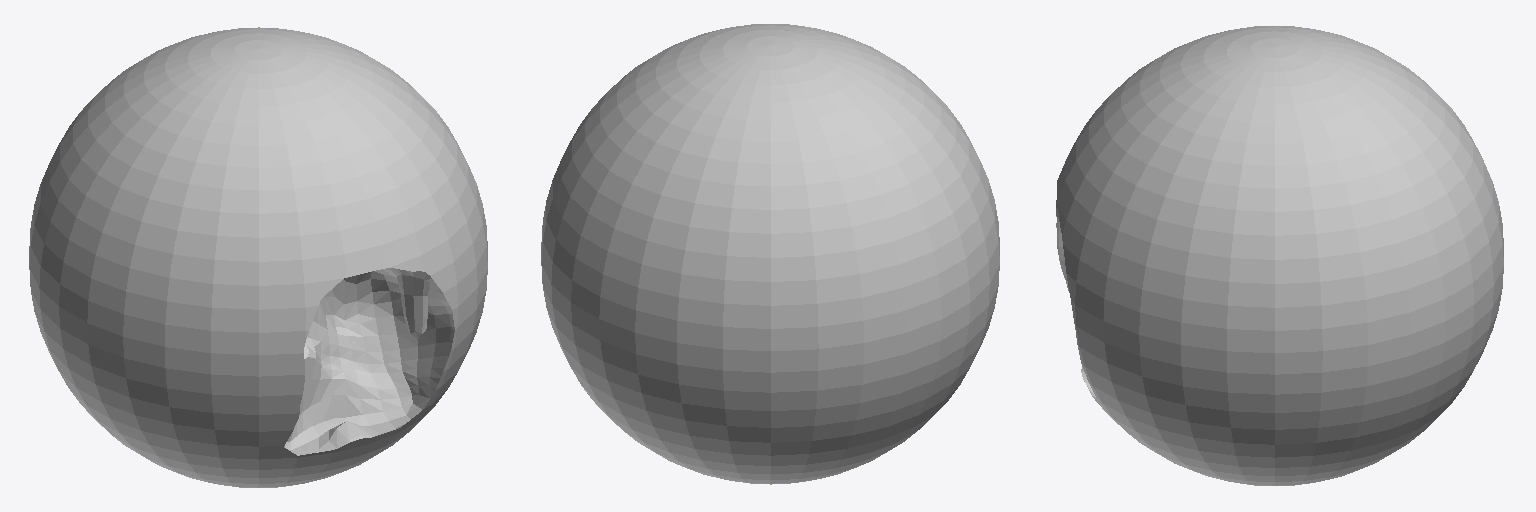
The model's file is BLobl_roel.obj.
3 views of the same model, side by side, from view 1: azimuth 30°, elevation 25°; view 2: azimuth 150°, elevation 25°; view 3: azimuth 270°, elevation 25° (orthographic).
Visible parts, largest first — view 1: polySurface1; view 2: polySurface1; view 3: polySurface1.
Boxes of the visible parts, x1=… form: polySurface1: x1=29, y1=27, x2=487, y2=487; polySurface1: x1=541, y1=24, x2=999, y2=484; polySurface1: x1=1056, y1=26, x2=1503, y2=485.
Bounding box in the file's own units: 6.16 × 6.16 × 5.99.